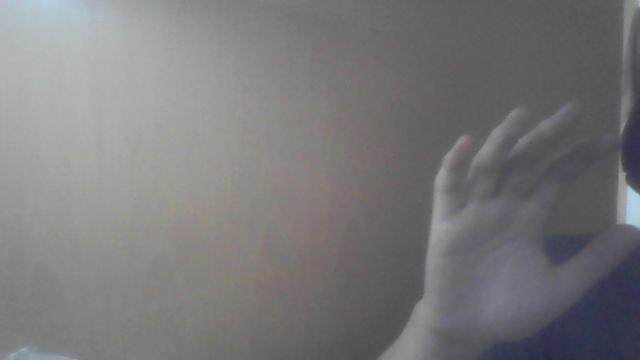Stop: (433, 116, 619, 346)
